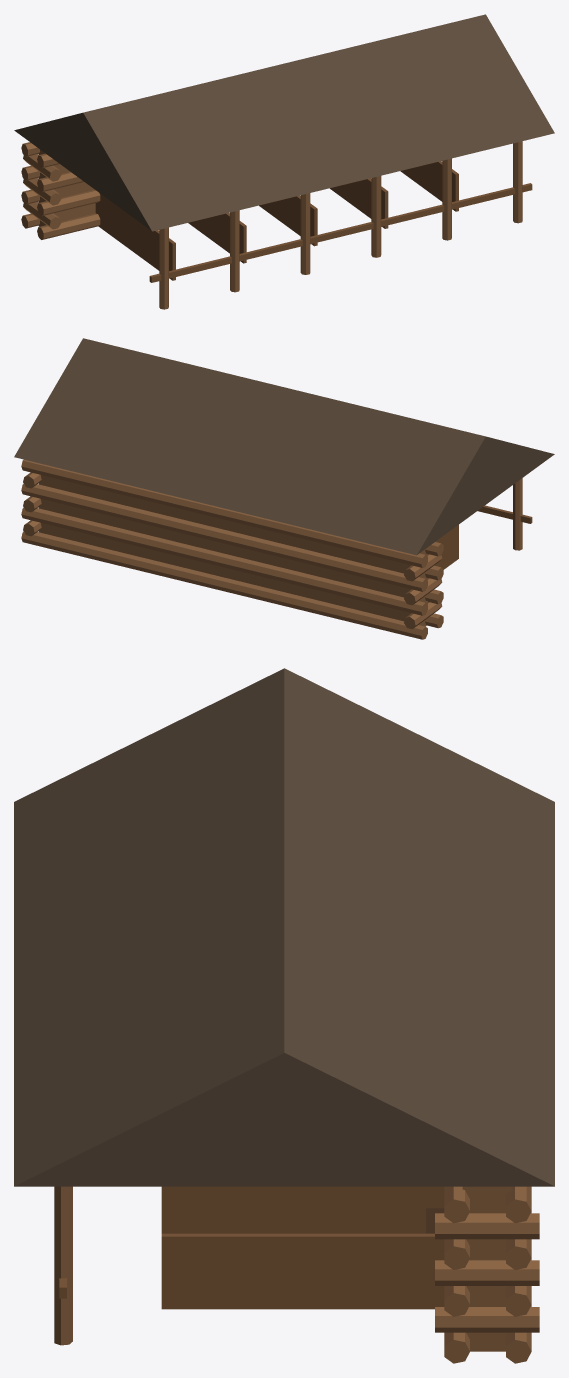
Rendered from stable.glb.
The picture shows the model from 3 angles, top to bottom: view 1: azimuth 30°, elevation 25°; view 2: azimuth 150°, elevation 25°; view 3: azimuth 270°, elevation 25°; orthographic projection. The views are drawn at different scales.
Visible parts, largest first — view 1: Stable; view 2: Stable; view 3: Stable.
Part boxes in pixels (x1,y1,x2,y2): Stable: [14, 14, 554, 309]; Stable: [14, 338, 554, 639]; Stable: [14, 668, 554, 1363].
Bounding box in the file's own units: 14.8 × 5.6 × 8.8.
